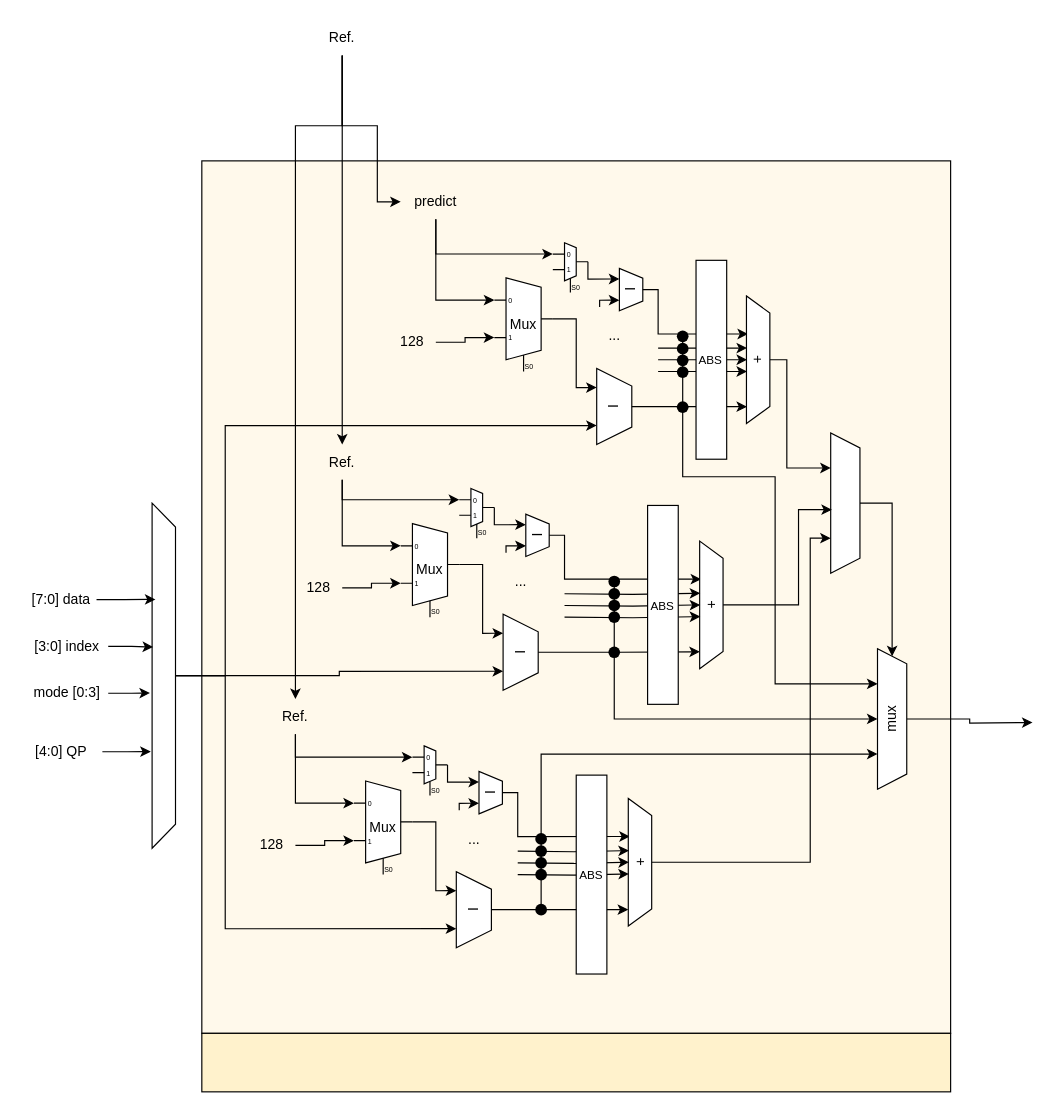
Some shapes in this 1062 by 1113 pixel diagram are drawn without their labels. Here are the shapes that lost their labels. From the top down, the box of each, then its label:
(830, 432, 860, 573): cmp
(201, 1032, 951, 1092): intra prediction + residual
